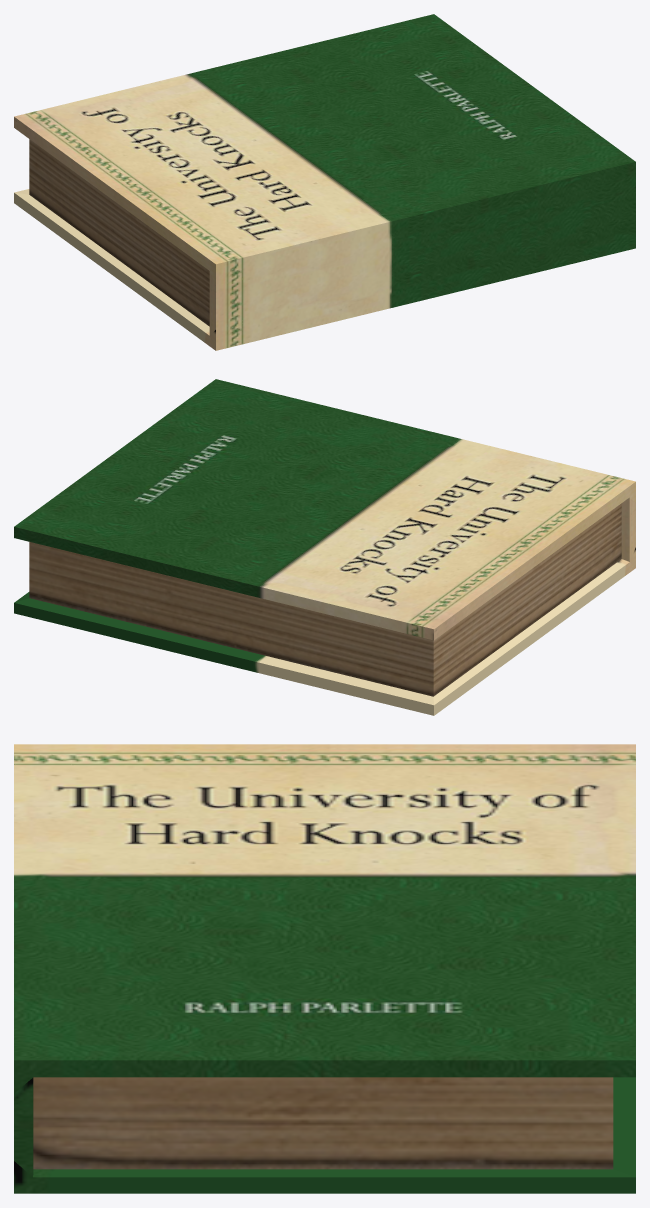
The model's file is University_Of_Hard_Knocks.fbx.
3 renders of one model, top to bottom at view 1: azimuth 30°, elevation 25°; view 2: azimuth 150°, elevation 25°; view 3: azimuth 270°, elevation 25°, orthographic. The views are drawn at different scales.
Parts seen in each view (by area): view 1: UniversityOfHardKnocks; view 2: UniversityOfHardKnocks; view 3: UniversityOfHardKnocks.
Boxes of the visible parts, x1,y1,x2,y2 form: UniversityOfHardKnocks: (14,14,635,350); UniversityOfHardKnocks: (14,379,635,715); UniversityOfHardKnocks: (14,744,635,1193).
Bounding box in the file's own units: 2.7 × 0.5327 × 2.25.
